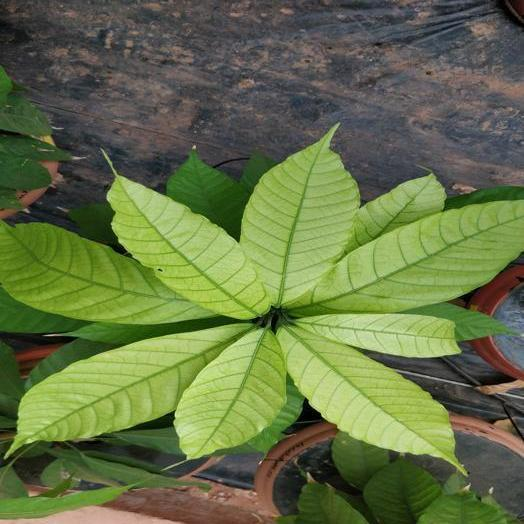Healthy Leaf: (167, 149, 248, 239), (364, 458, 441, 523)
Iron: (8, 324, 250, 454), (277, 327, 462, 469), (291, 202, 523, 314), (108, 177, 268, 318), (240, 125, 359, 305), (0, 223, 213, 323), (175, 328, 285, 457), (346, 174, 445, 251), (294, 314, 459, 357)
